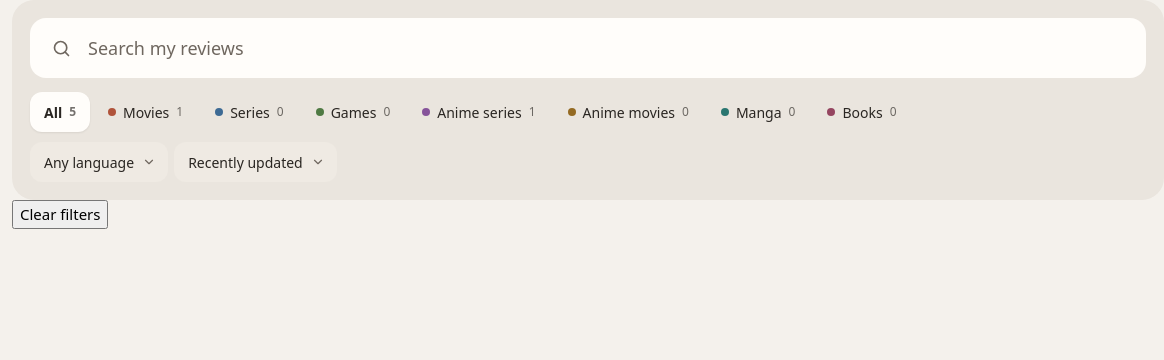
Test: language › pushes the language picked
Click the dropdown labelled "language": [99, 162] box [30,142,168,182]
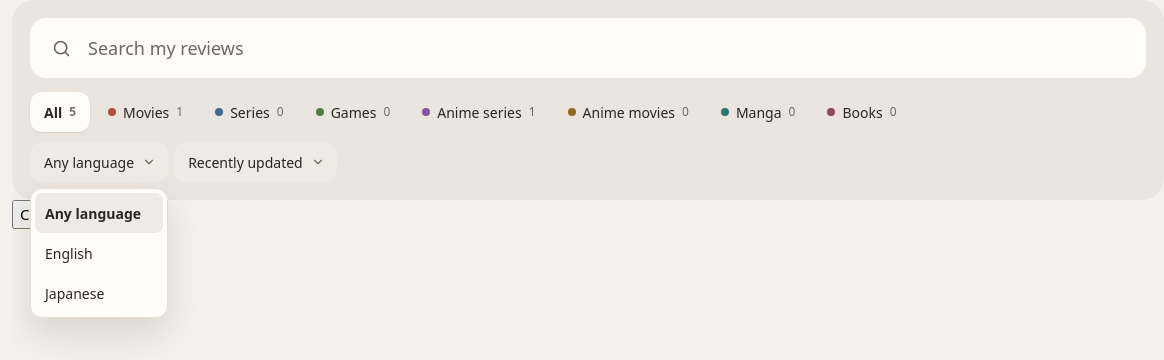
Click the option "Japanese": [75, 293] box [45,284,104,302]
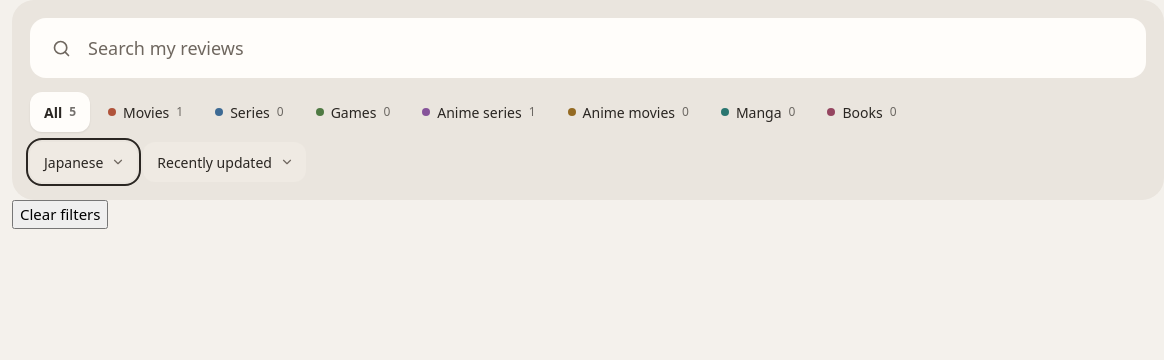
Check: the text "Japanese" is shown, box [44,152,103,172]
